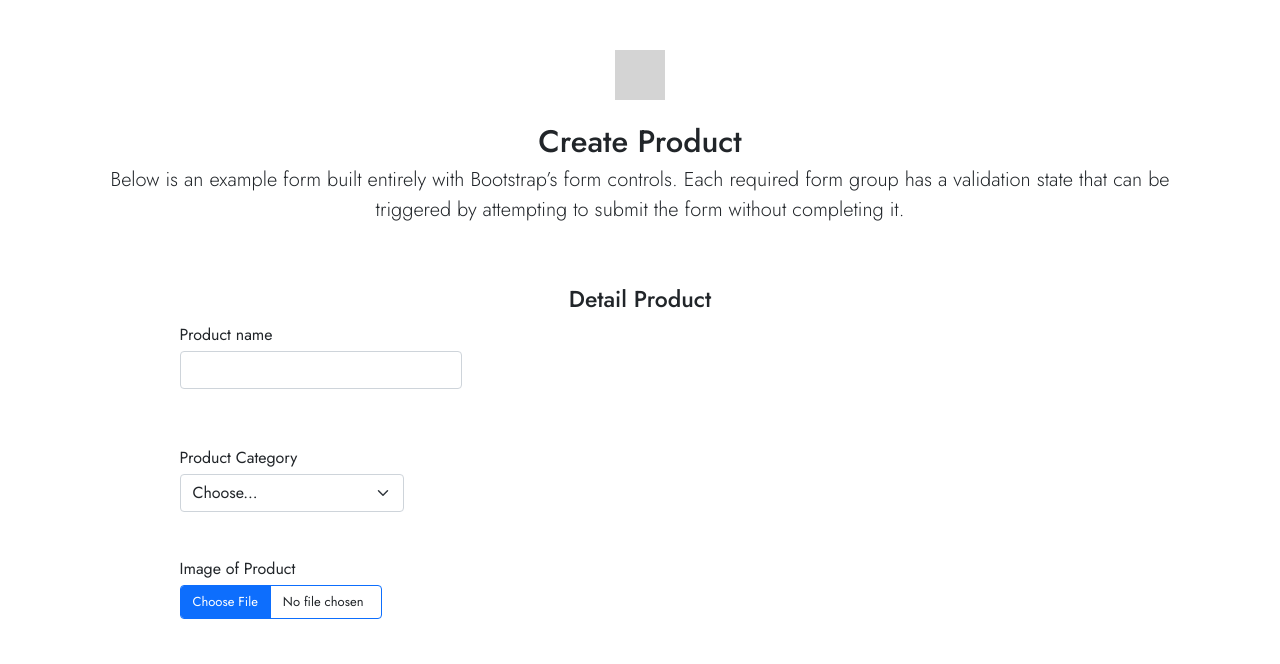
Test: CreateProduct component › Validasi form input yang benar bahwa product Name tidak melebihin 25 karakter
The width and height of the screenshot is (1280, 664).
Type "Cobain text panjang banget yang lebih dari 25 character" into the field labelled "Product name". click: (320, 370)
box: 180,351 -> 462,389
(page scrolled)
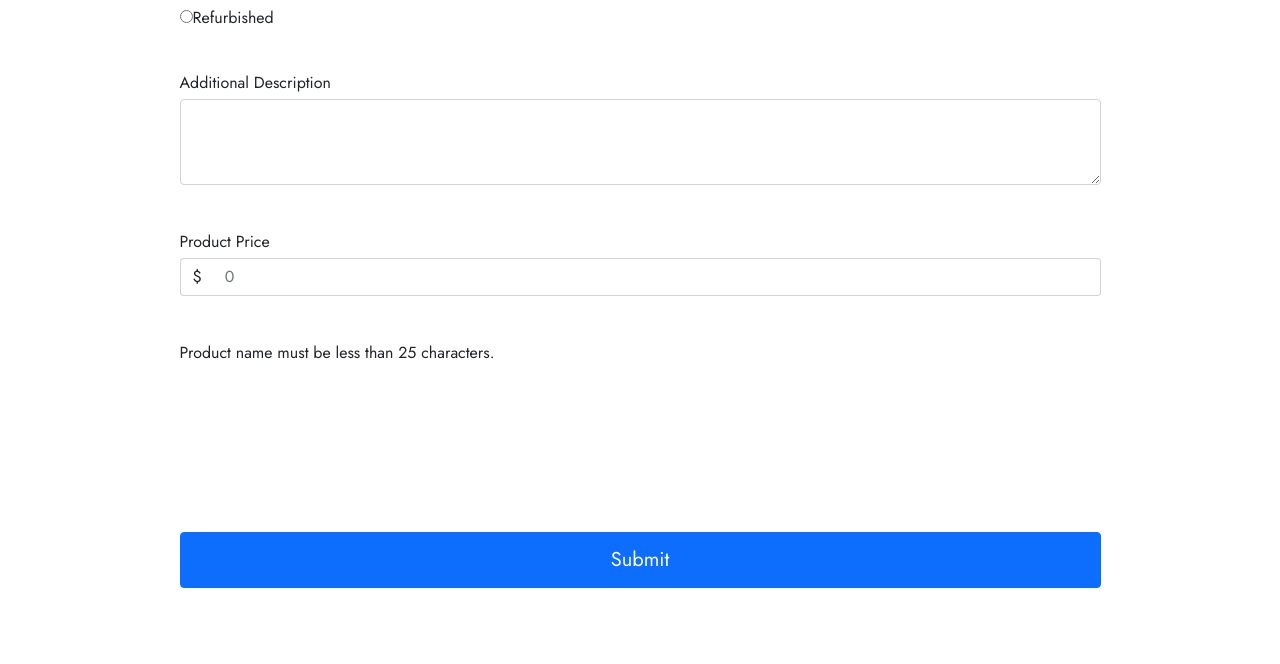
expect the text "Product name must be less than 25 characters." is shown: met, box 180,340 -> 495,364
